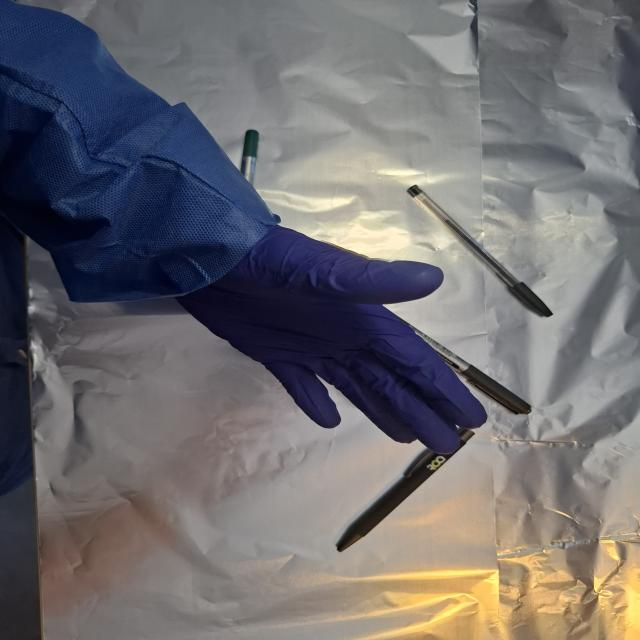glove_on: (170, 222, 492, 456)
